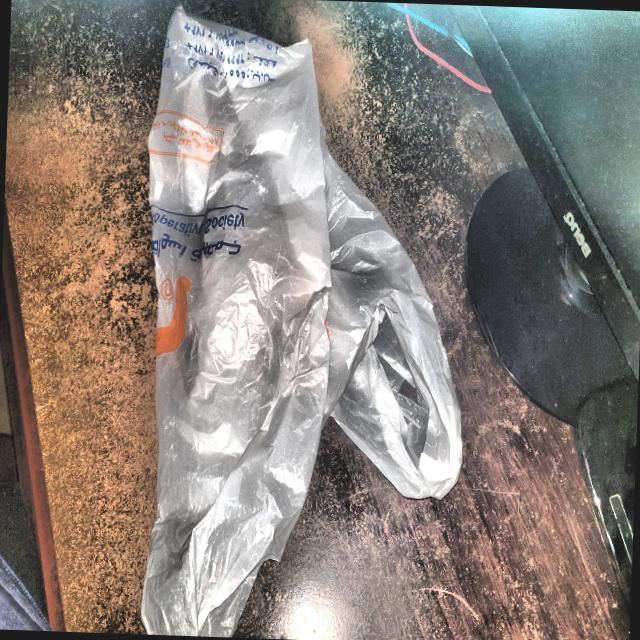plastic bag: (118, 0, 487, 640)
